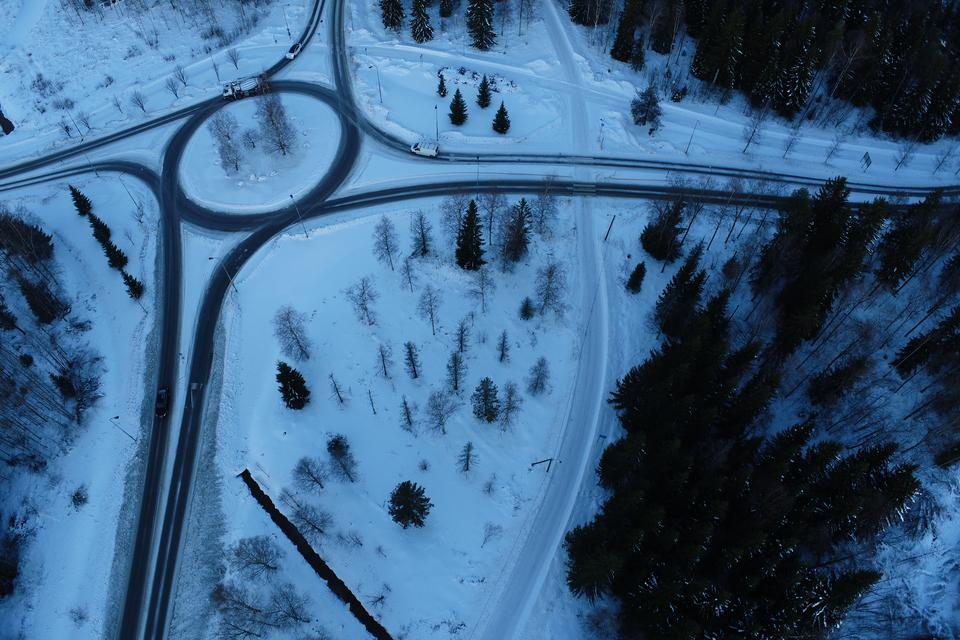intersection: (550, 125, 613, 219)
roundabout: (143, 55, 378, 257)
